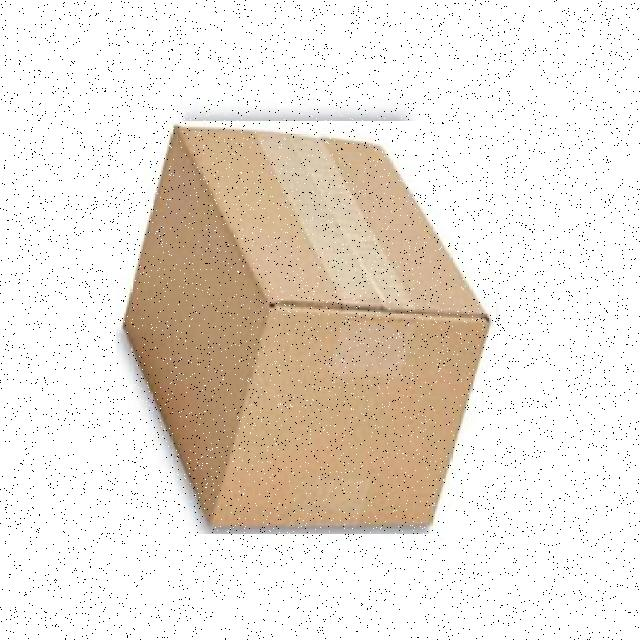normal: (116, 121, 496, 534)
